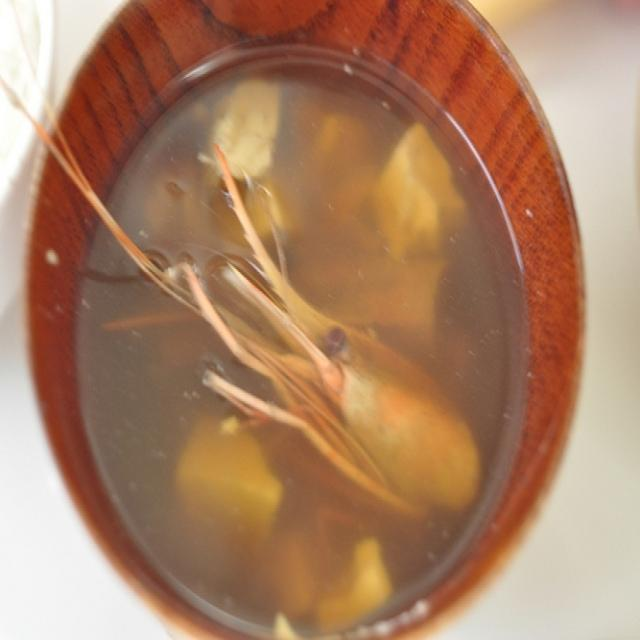汤锅炖物: (29, 23, 592, 615)
